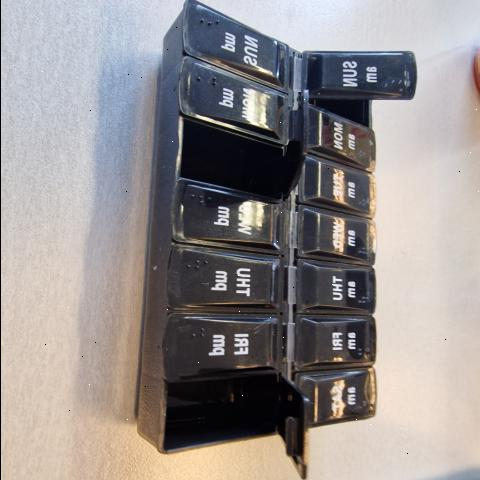Open: (162, 371, 307, 478), (179, 92, 306, 194), (306, 94, 410, 126)
